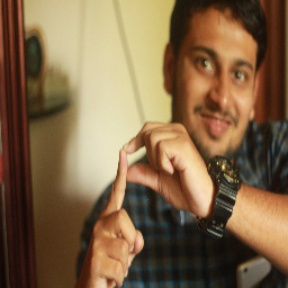P: (80, 113, 204, 282)
